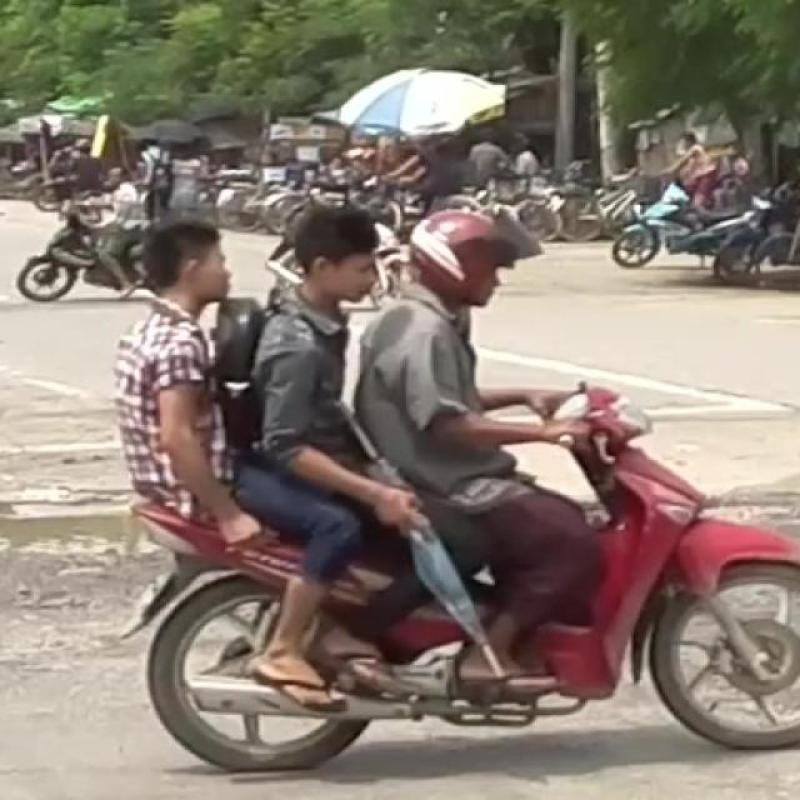nohelmet: (113, 198, 247, 318), (284, 178, 394, 316)
